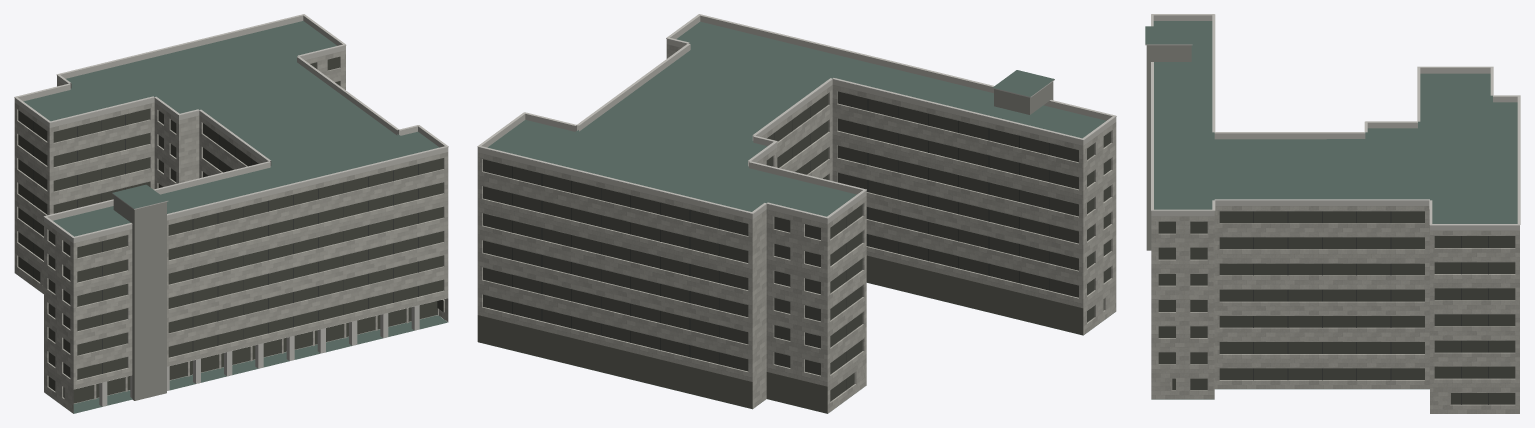
3 renders of one model, left to right at view 1: azimuth 30°, elevation 25°; view 2: azimuth 150°, elevation 25°; view 3: azimuth 270°, elevation 25°, orthographic. The views are drawn at different scales.
Visible parts, largest first — view 1: infoScience__wall, infoScience__glass, infoScience__roof, infoScience__parapet, infoScience__wall2, infoScience__trim, infoScience__column, infoScience__frame; view 2: infoScience__wall, infoScience__glass, infoScience__roof, infoScience__base, infoScience__parapet, infoScience__trim, infoScience__frame, infoScience__wall2; view 3: infoScience__wall, infoScience__roof, infoScience__glass, infoScience__parapet, infoScience__trim, infoScience__wall2, infoScience__frame.
Boxes of the visible parts, <box> form: infoScience__wall: <box>14,50,448,413</box>; infoScience__glass: <box>18,56,443,403</box>; infoScience__roof: <box>19,21,447,413</box>; infoScience__parapet: <box>14,15,448,243</box>; infoScience__wall2: <box>113,195,166,400</box>; infoScience__trim: <box>14,14,448,238</box>; infoScience__column: <box>99,305,419,406</box>; infoScience__frame: <box>33,114,418,373</box>; infoScience__wall: <box>477,44,1116,413</box>; infoScience__glass: <box>483,91,1110,401</box>; infoScience__roof: <box>480,21,1113,413</box>; infoScience__base: <box>477,255,1083,413</box>; infoScience__parapet: <box>477,15,1116,224</box>; infoScience__trim: <box>477,14,1116,218</box>; infoScience__frame: <box>512,99,1049,390</box>; infoScience__wall2: <box>994,81,1053,114</box>; infoScience__wall: <box>1151,206,1519,413</box>; infoScience__roof: <box>1145,21,1517,399</box>; infoScience__glass: <box>1158,211,1515,404</box>; infoScience__parapet: <box>1151,15,1519,230</box>; infoScience__trim: <box>1145,14,1520,225</box>; infoScience__wall2: <box>1146,45,1191,250</box>; infoScience__frame: <box>1253,211,1488,404</box>.
Size of the model in its own units: 62.36 by 28.52 by 46.81.
Materials: 10 (1 with a texture image).
